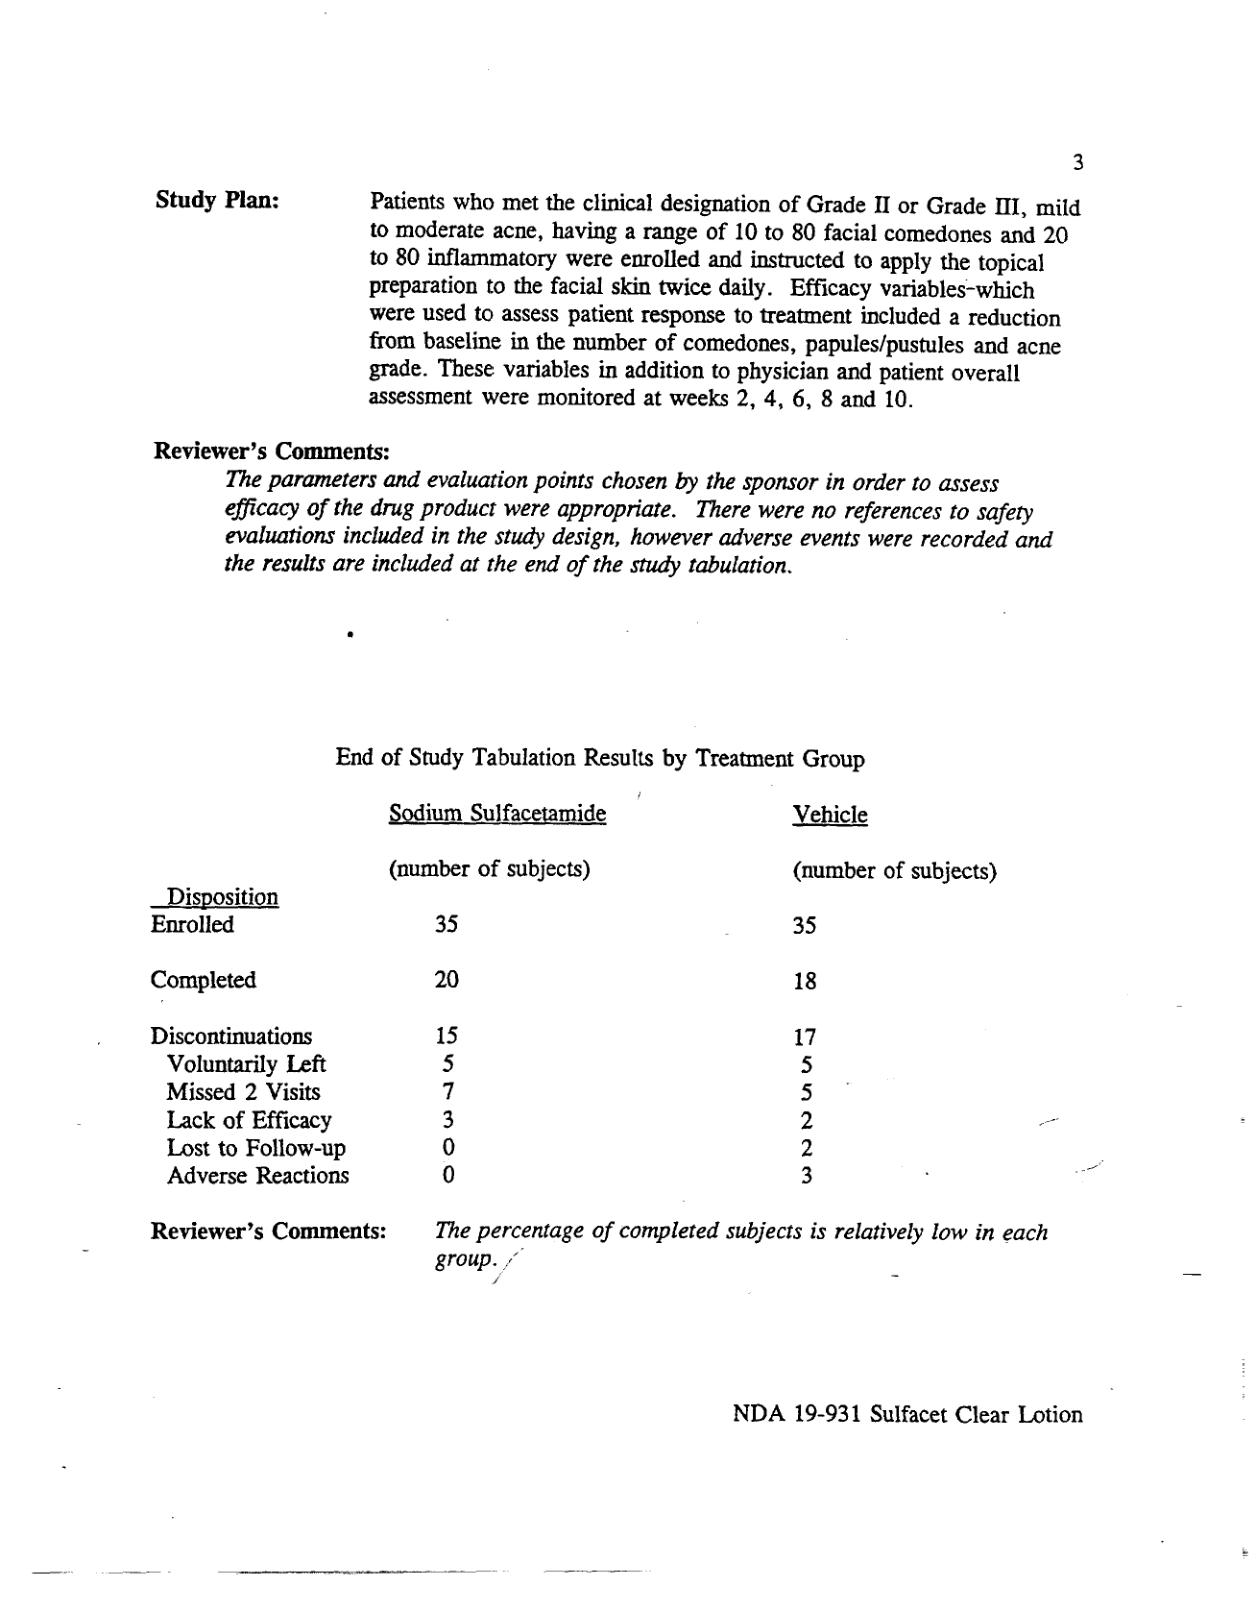nolines: (147, 801, 1053, 1274)
